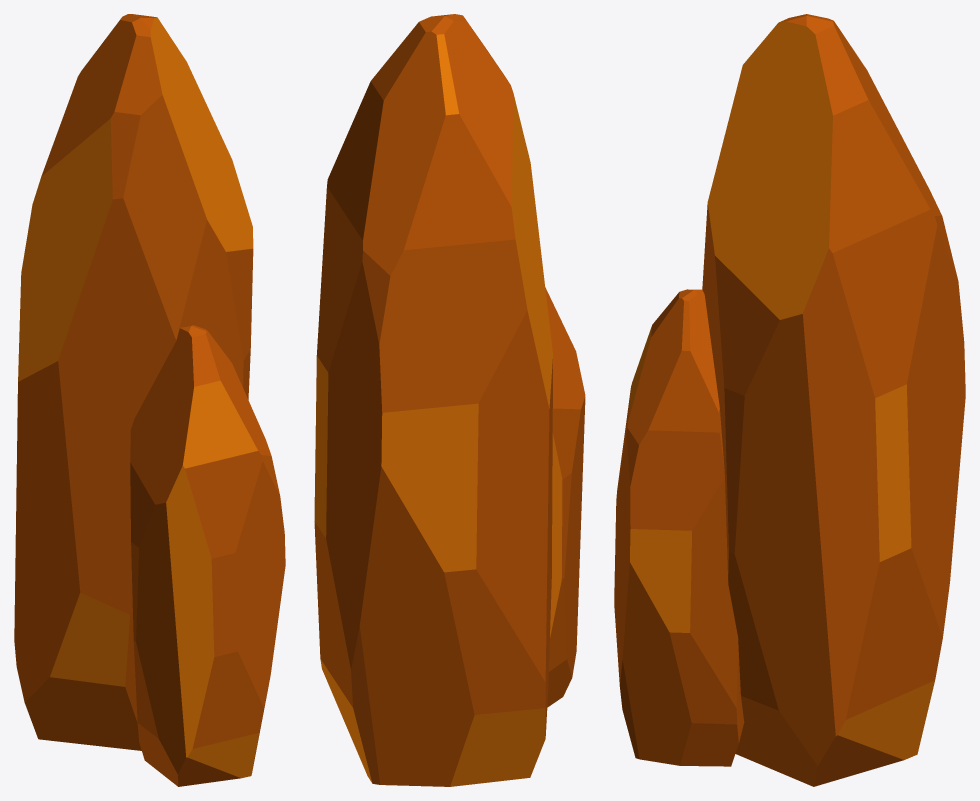
File: stone5.fbx
3 renders of one model, left to right at view 1: azimuth 30°, elevation 25°; view 2: azimuth 150°, elevation 25°; view 3: azimuth 270°, elevation 25°, orthographic. The views are drawn at different scales.
Parts seen in each view (by area): view 1: Sphere.003; view 2: Sphere.003; view 3: Sphere.003.
Part boxes in pixels (x1,y1,x2,y2): Sphere.003: (14, 14, 285, 786); Sphere.003: (314, 14, 585, 786); Sphere.003: (614, 14, 965, 786).
Size of the model in its own units: 156 by 473 by 207.
